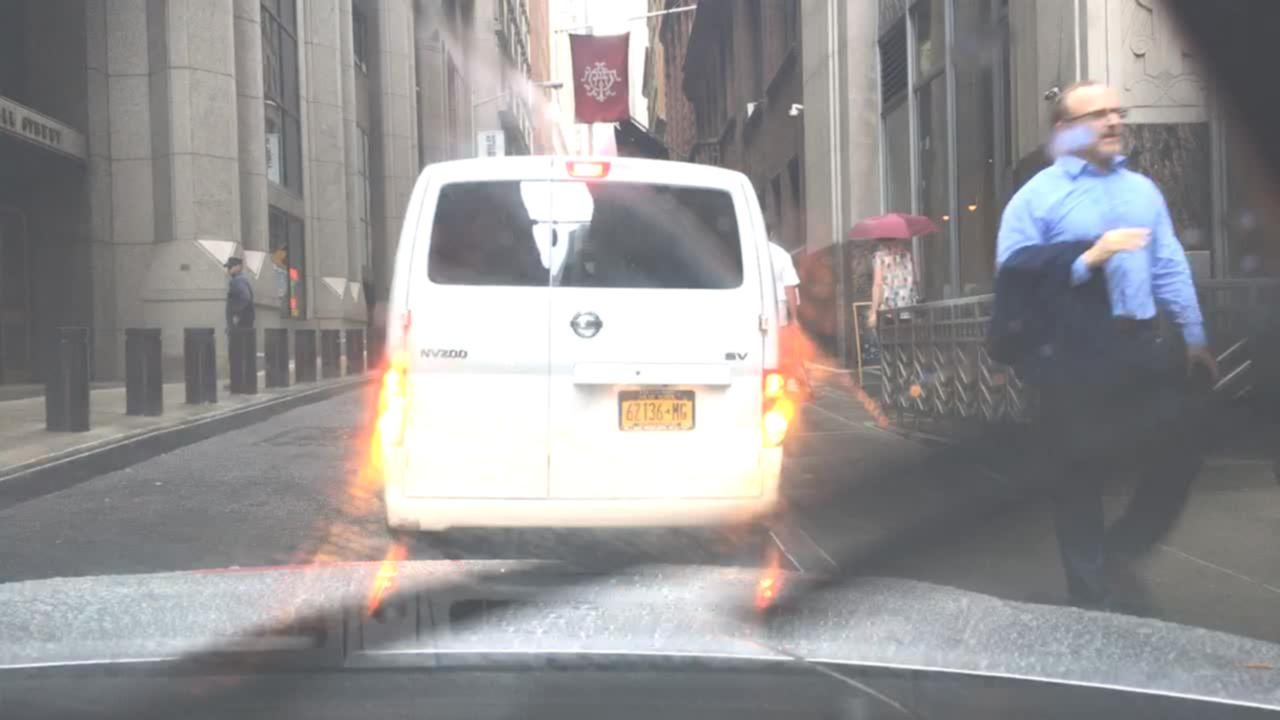Nissan: (568, 308, 609, 343)
